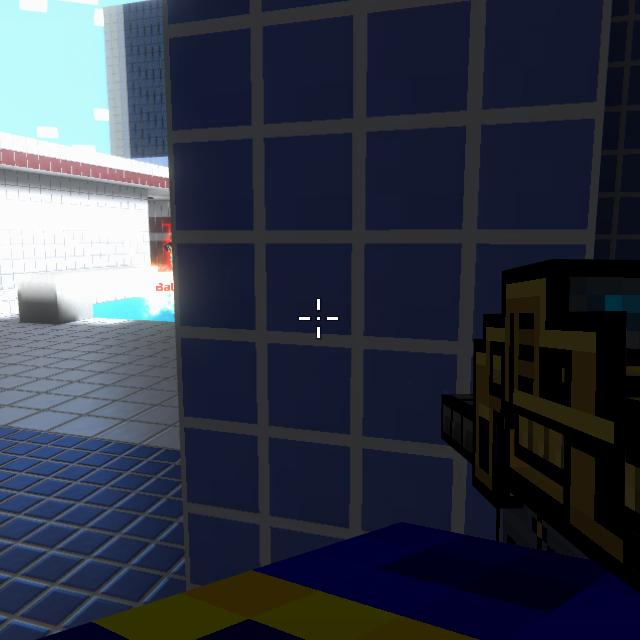Enemy: (163, 231, 169, 263)
